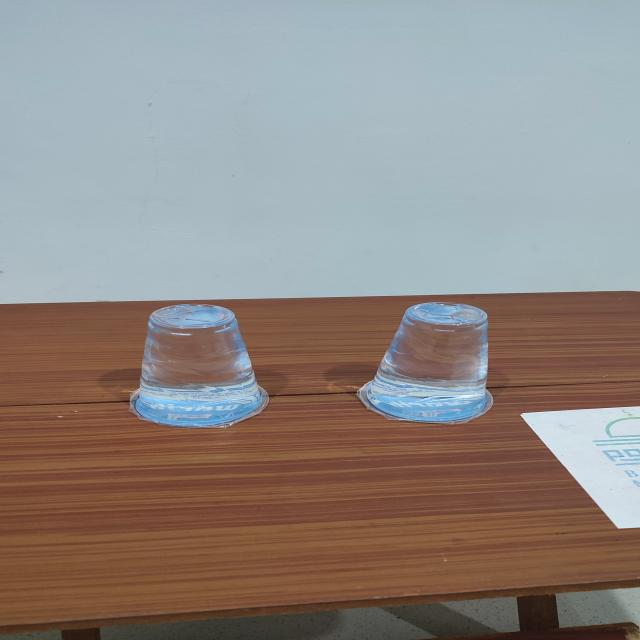air gelas: (350, 297, 507, 428), (126, 304, 271, 430)
